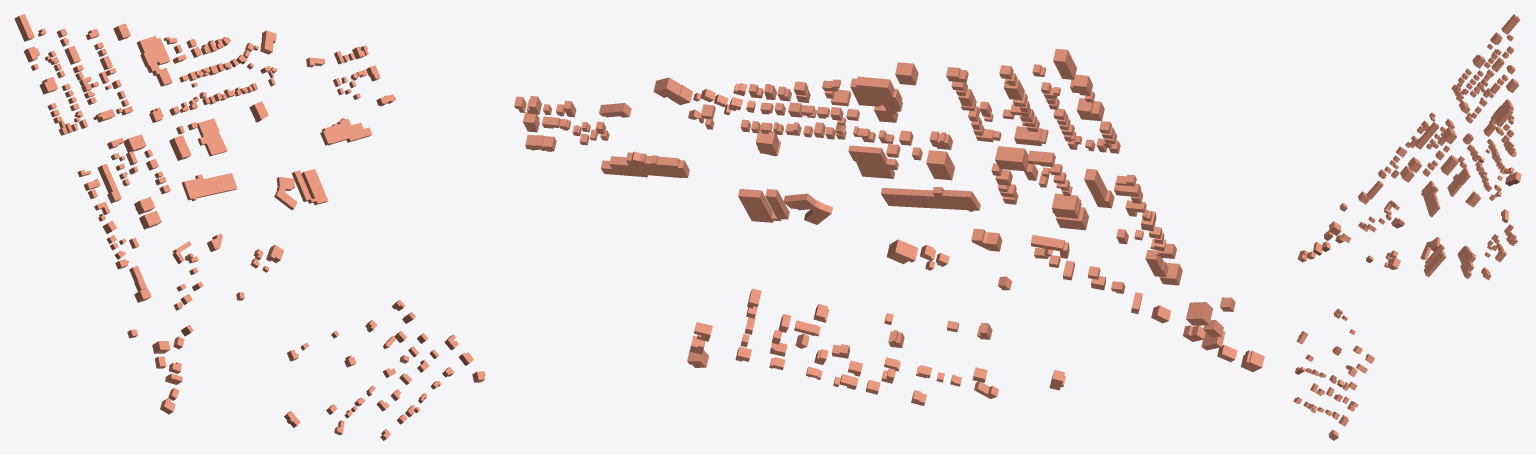
The picture shows the model from 3 angles, left to right: view 1: azimuth 30°, elevation 25°; view 2: azimuth 150°, elevation 25°; view 3: azimuth 270°, elevation 25°; orthographic projection. The views are drawn at different scales.
Visible parts, largest first — view 1: mesh; view 2: mesh; view 3: mesh.
Part boxes in pixels (x1,y1,x2,y2): mesh: [14, 14, 485, 440]; mesh: [514, 49, 1264, 405]; mesh: [1293, 14, 1521, 440].
Bounding box in the file's own units: 876 × 879 × 604.
